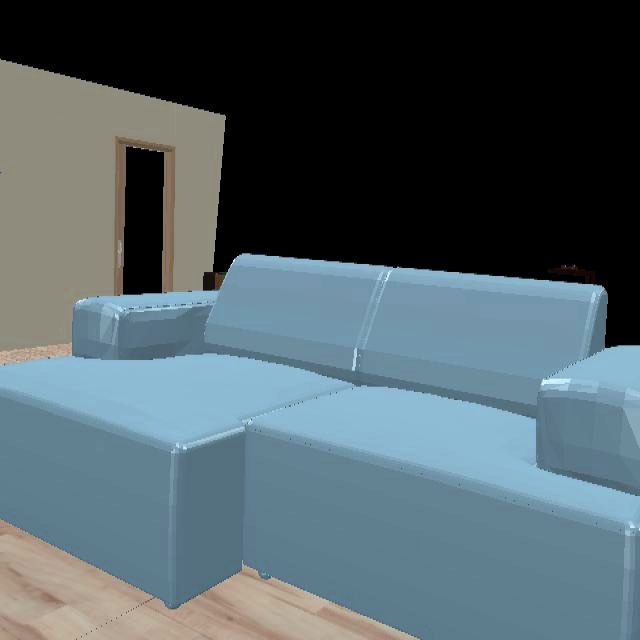sofa: (0, 255, 640, 635)
